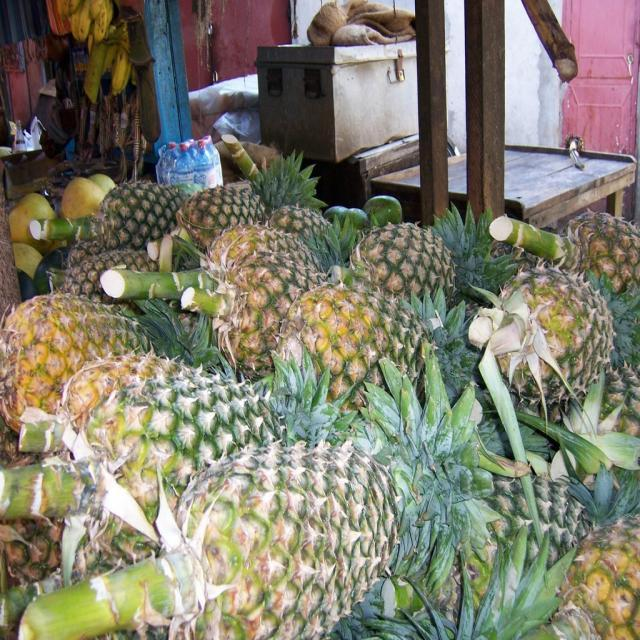Pineapple: (0, 146, 639, 639)
